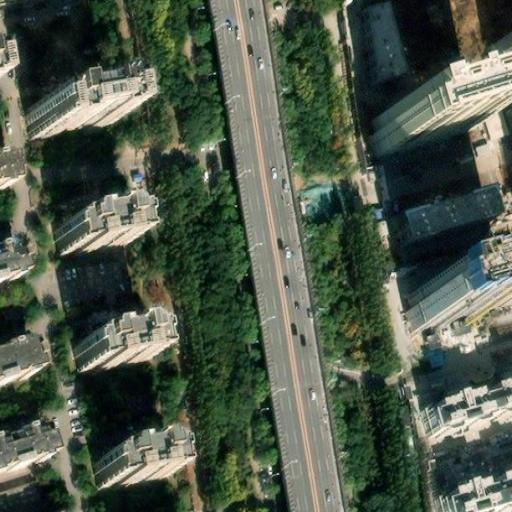building: (403, 264, 512, 328), (367, 97, 475, 161), (406, 184, 505, 241), (360, 1, 410, 80), (25, 88, 104, 138), (91, 454, 160, 497), (71, 335, 140, 378), (51, 220, 120, 263), (445, 474, 512, 512), (0, 429, 47, 476), (0, 246, 20, 279), (0, 157, 14, 188)
